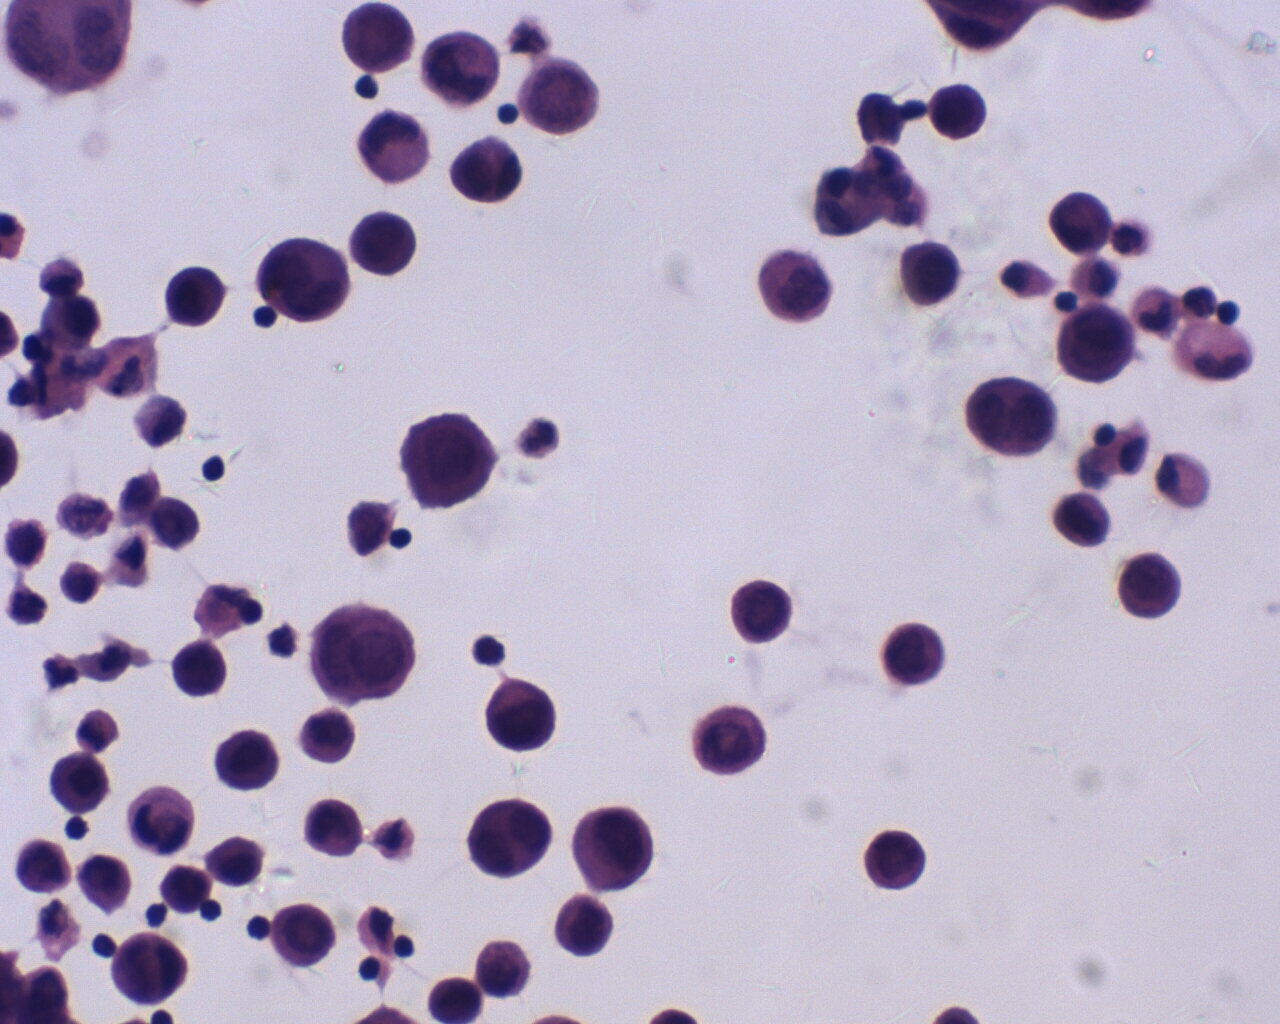ab: (309, 603, 413, 708), (399, 416, 499, 507), (964, 369, 1057, 463), (254, 238, 348, 320), (515, 61, 603, 136), (1056, 301, 1135, 380), (421, 30, 501, 108), (481, 679, 560, 757), (347, 207, 422, 283), (1116, 550, 1185, 626), (344, 1, 416, 73), (725, 577, 797, 647), (267, 900, 340, 969), (879, 616, 949, 686), (1048, 193, 1111, 251)
lymph: (203, 453, 228, 482), (387, 528, 412, 550)
meso: (897, 236, 971, 313), (298, 709, 356, 762)
